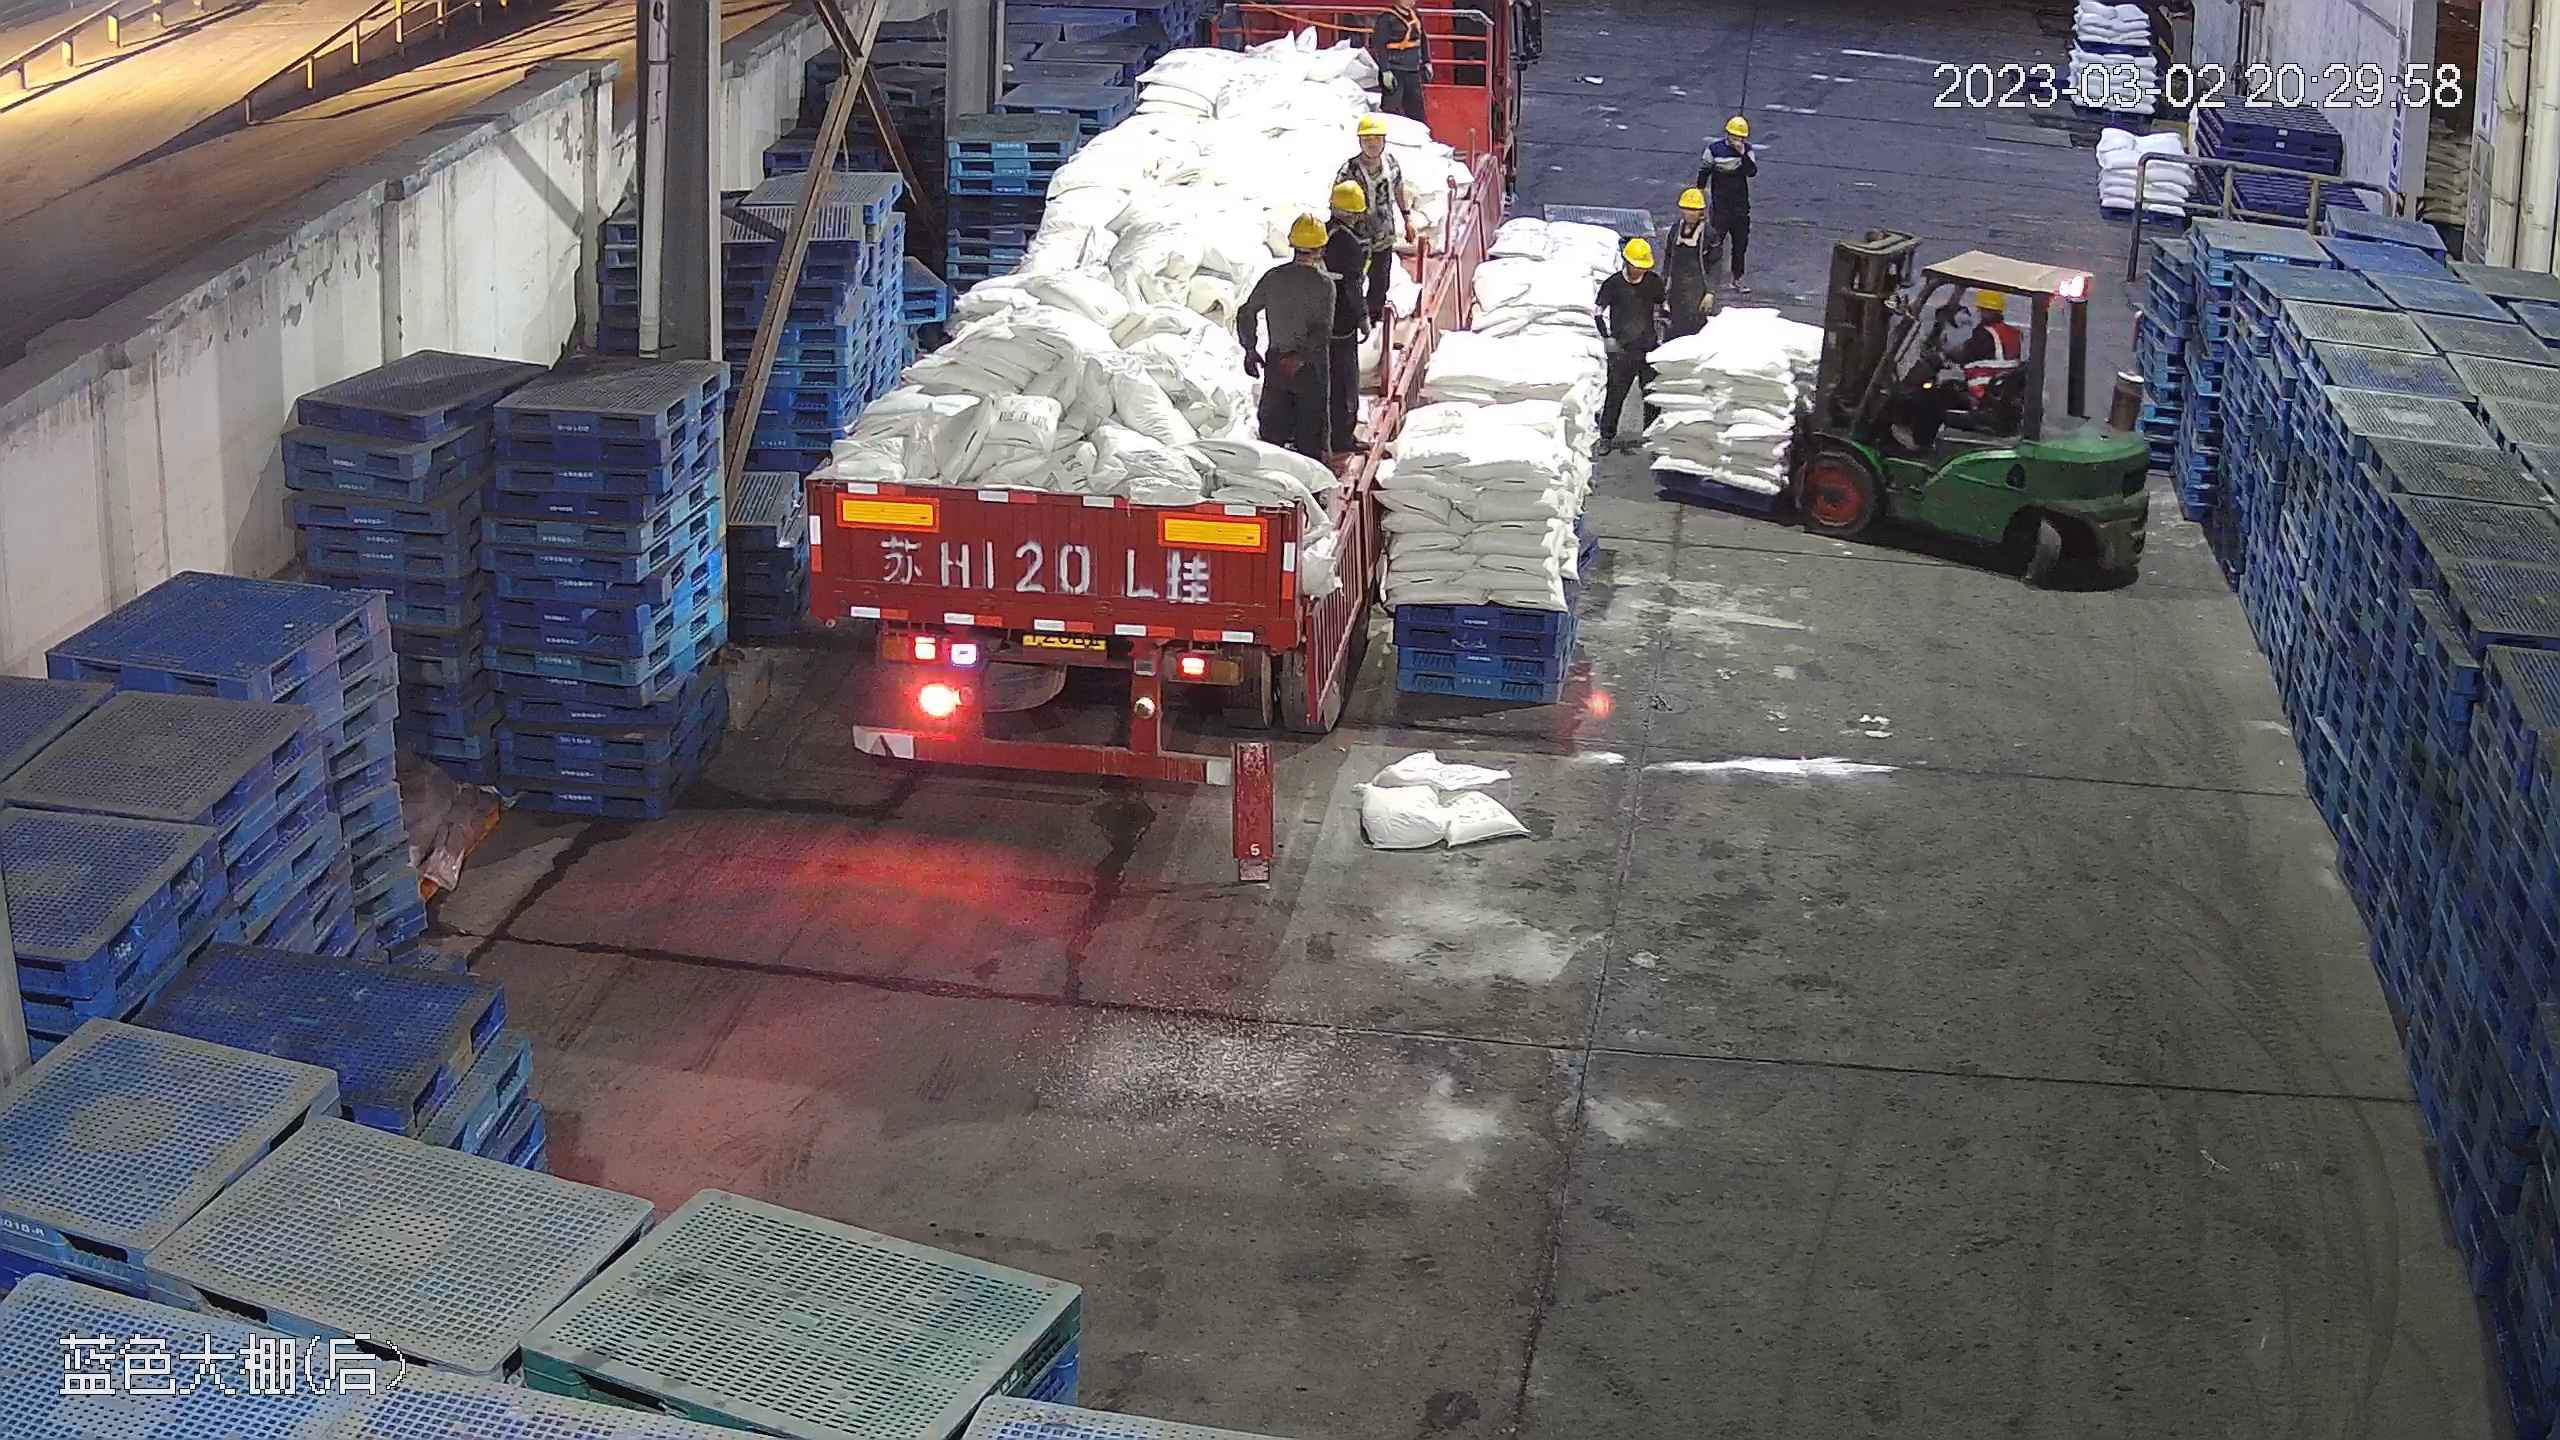belt: (1324, 224, 1375, 282), (1358, 152, 1397, 211), (1380, 9, 1421, 51), (1675, 215, 1706, 247)
head: (1255, 212, 1344, 302), (1595, 235, 1664, 307), (1324, 180, 1370, 277), (1337, 113, 1400, 183), (1960, 287, 2017, 356), (1669, 181, 1715, 240), (1707, 115, 1756, 166)
helmet: (1284, 212, 1331, 251), (1620, 233, 1660, 268), (1333, 177, 1369, 209), (1972, 286, 2004, 311), (1357, 114, 1386, 137), (1723, 116, 1749, 135)
people: (1239, 214, 1353, 462), (1589, 231, 1666, 462), (1906, 283, 2020, 438), (1708, 107, 1758, 286), (1664, 188, 1720, 340)
truck: (801, 12, 1476, 776)
